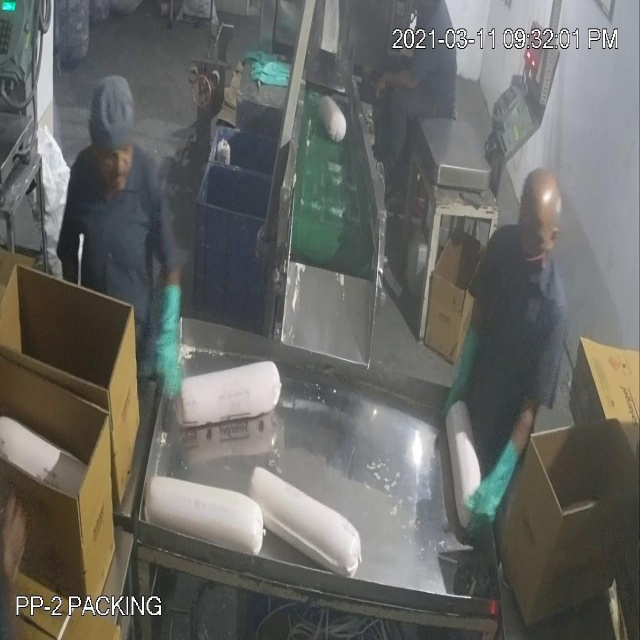Guantes: (461, 416, 519, 548), (140, 268, 187, 412)
Sin_guantes: (365, 58, 424, 120)
